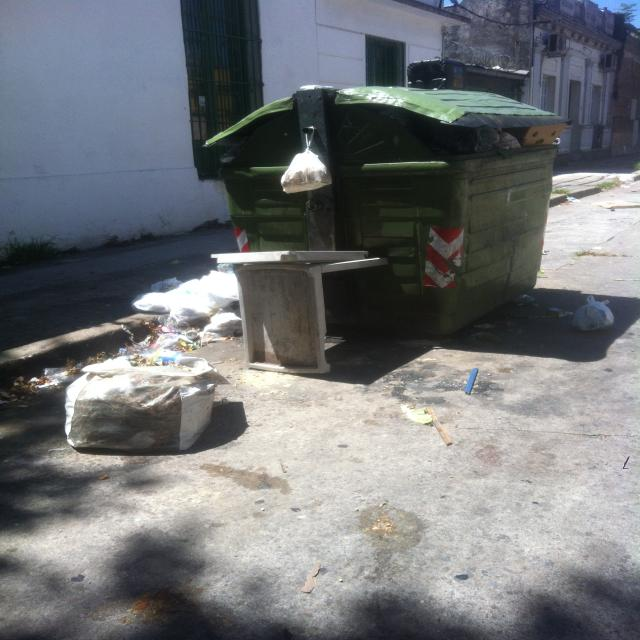garbage: (58, 346, 223, 455), (125, 256, 268, 332), (465, 111, 576, 156), (554, 296, 626, 340), (284, 134, 332, 193)
